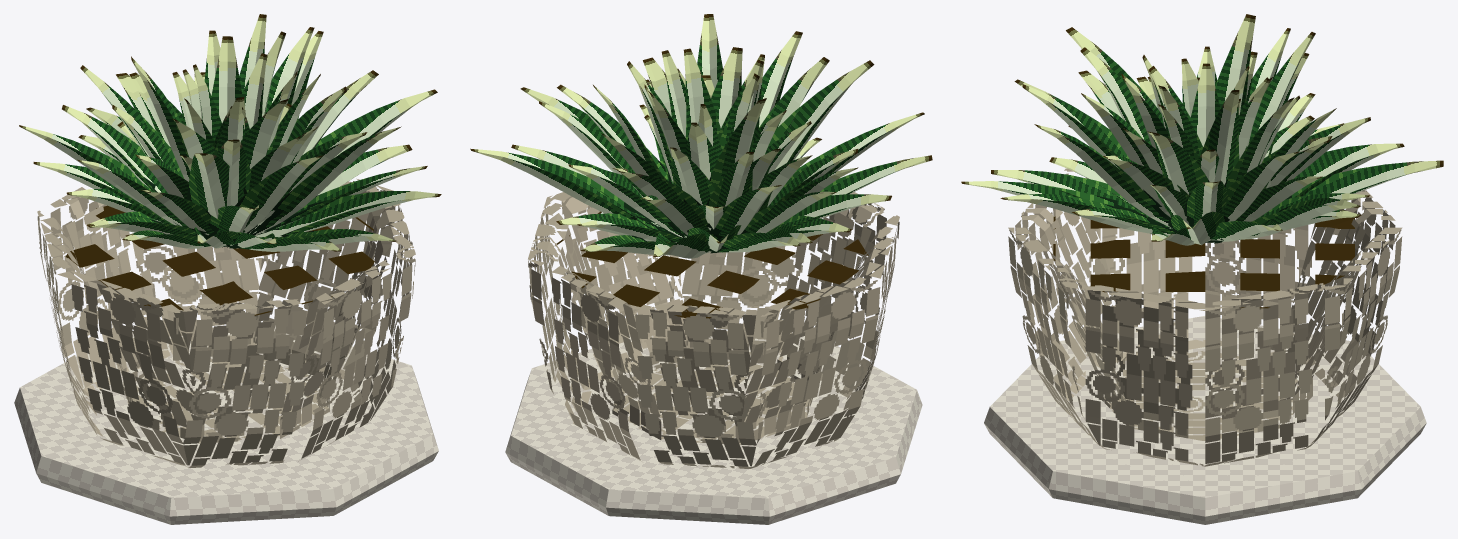
The model's file is haworthia.obj.
3 renders of one model, left to right at view 1: azimuth 30°, elevation 25°; view 2: azimuth 150°, elevation 25°; view 3: azimuth 270°, elevation 25°, orthographic. The views are drawn at different scales.
Parts seen in each view (by area): view 1: Pot, Saucer, Soil, Leaf_017, Leaf_033, Leaf_030, Leaf_026, Leaf_032, Leaf_000, Leaf_049, Leaf_051, Leaf_027 (+34 smaller); view 2: Pot, Saucer, Soil, Leaf_002, Leaf_030, Leaf_022, Leaf_051, Leaf_021, Leaf_026, Leaf_060, Leaf_032, Leaf_054 (+35 smaller); view 3: Pot, Saucer, Soil, Leaf_033, Leaf_005, Leaf_048, Leaf_032, Leaf_006, Leaf_051, Leaf_047, Leaf_021, Leaf_015 (+30 smaller).
Part boxes in pixels (x1,y1,x2,y2): Pot: (37,178,415,467); Saucer: (14,325,438,524); Soil: (65,205,374,315); Leaf_017: (255,191,441,237); Leaf_033: (252,126,401,235); Leaf_030: (186,153,247,218); Leaf_026: (62,105,167,193); Leaf_032: (235,155,323,233); Leaf_000: (315,89,437,157); Leaf_049: (211,36,242,123); Leaf_051: (131,56,190,181); Leaf_027: (19,125,157,205); Pot: (528,161,899,468); Saucer: (505,330,922,524); Soil: (555,211,868,318); Leaf_002: (470,148,661,230); Leaf_030: (768,60,874,169); Leaf_022: (568,164,685,238); Leaf_051: (709,98,766,188); Leaf_021: (539,101,660,211); Leaf_026: (706,185,781,252); Leaf_060: (683,48,720,140); Leaf_032: (759,31,802,127); Leaf_054: (711,47,742,127); Pot: (1008,168,1402,466); Saucer: (984,316,1426,524); Soil: (1053,216,1354,308); Leaf_033: (1034,124,1172,228); Leaf_005: (1285,160,1443,199); Leaf_048: (1200,90,1239,184); Leaf_032: (1022,84,1133,180); Leaf_006: (1294,143,1404,197); Leaf_051: (1215,14,1255,108); Leaf_047: (1147,131,1209,195); Leaf_021: (1221,151,1299,221); Leaf_015: (991,170,1170,228).
Bounding box in the file's own units: 1.53 × 1.41 × 1.61.
